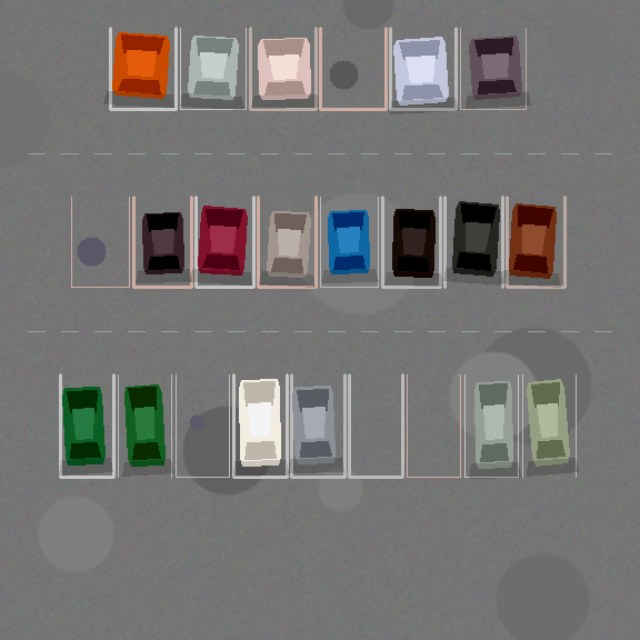space-empty: (176, 374, 229, 477), (349, 374, 402, 477), (407, 374, 460, 477), (320, 28, 386, 109), (71, 197, 129, 287)
space-occupied: (233, 374, 287, 477), (464, 374, 518, 477), (522, 374, 576, 477), (60, 374, 113, 477), (118, 374, 171, 477), (291, 374, 344, 477), (110, 28, 176, 109), (180, 28, 246, 109), (250, 28, 316, 109), (390, 28, 456, 109), (460, 28, 526, 109), (133, 197, 191, 287), (258, 197, 316, 287), (320, 197, 378, 287), (382, 197, 440, 287), (444, 197, 502, 287), (196, 197, 253, 287), (507, 197, 564, 287)
